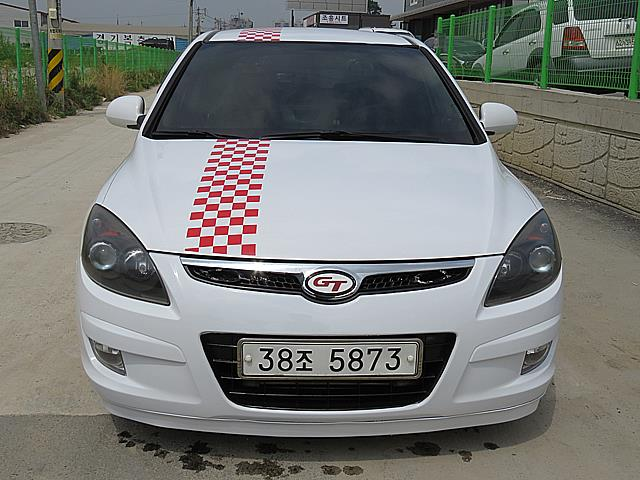plate: (242, 343, 417, 375)
